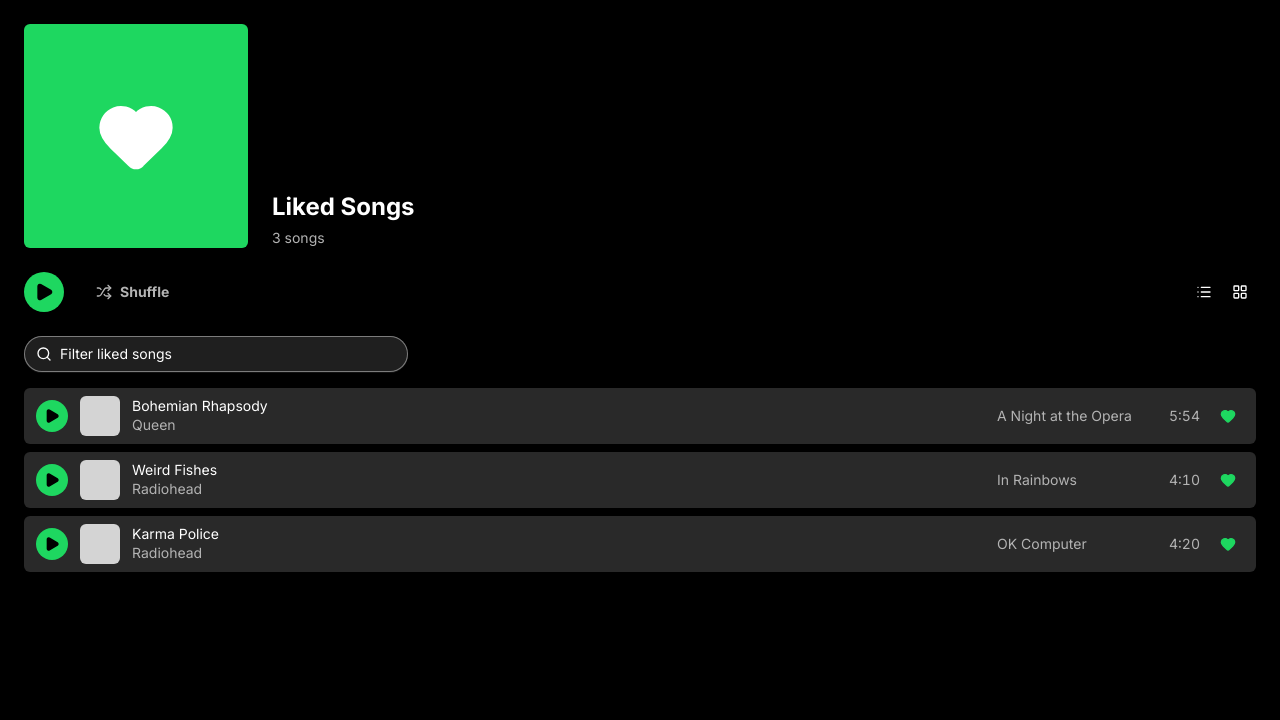
it: Liked Songs surface (task 6.1) › filters by title and artist text, shows a no-matches line, restores on clear
expect the button with aria-label "Play Bohemian Rhapsody" is shown: met, box [36,396,1200,436]
Type "queen" into the search field labelled "Filter liked songs" at (228, 354), box [60,345,396,363]
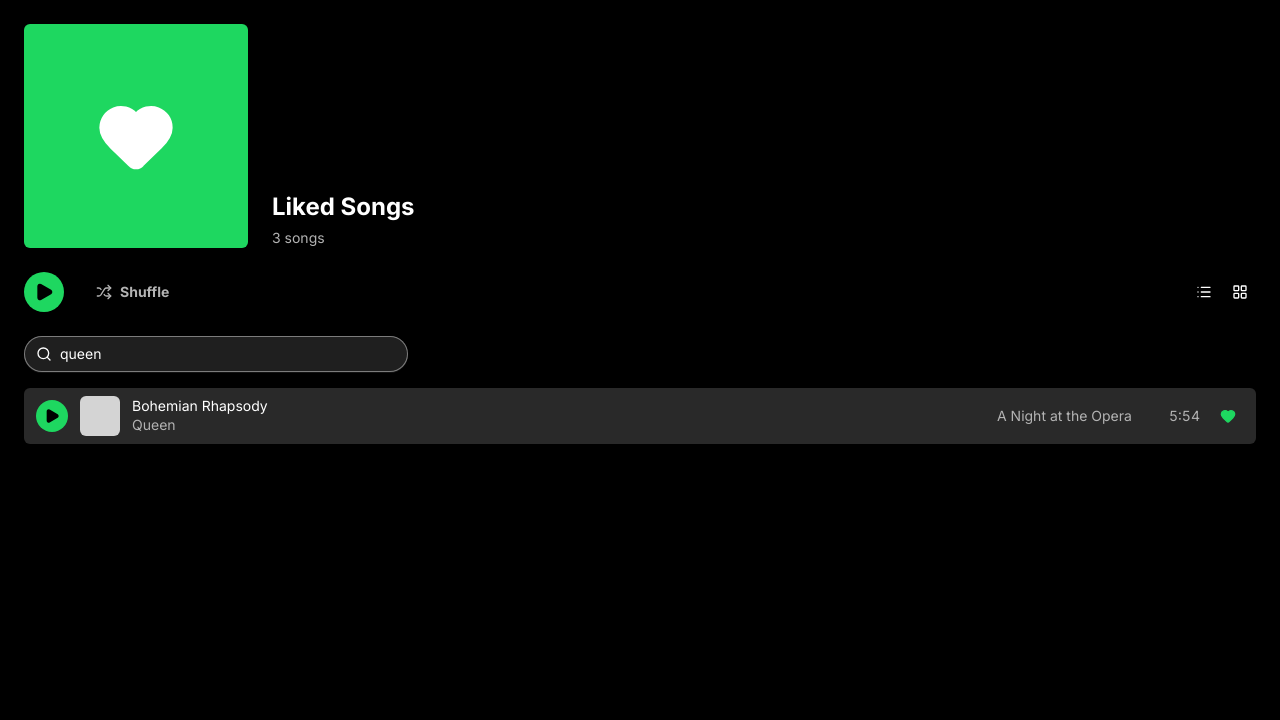
expect the button with aria-label "Play Bohemian Rhapsody" is shown: met, box [36,396,1200,436]
Replace the text in the search field named "Filter liked songs" with "karma" at (228, 354), box [60,345,396,363]
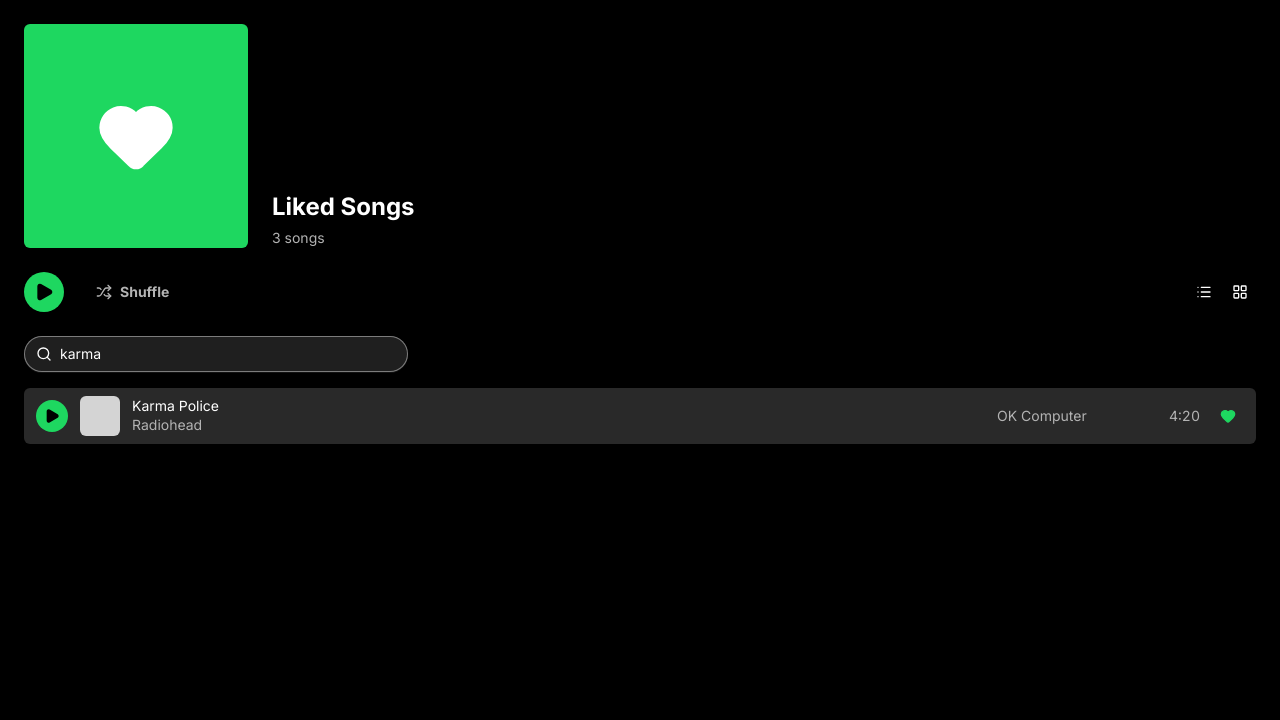
expect the button with aria-label "Play Karma Police" is shown: met, box [36,396,1200,436]
Replace the text in the search field named "Filter liked songs" with "zzz" at (228, 354), box [60,345,396,363]
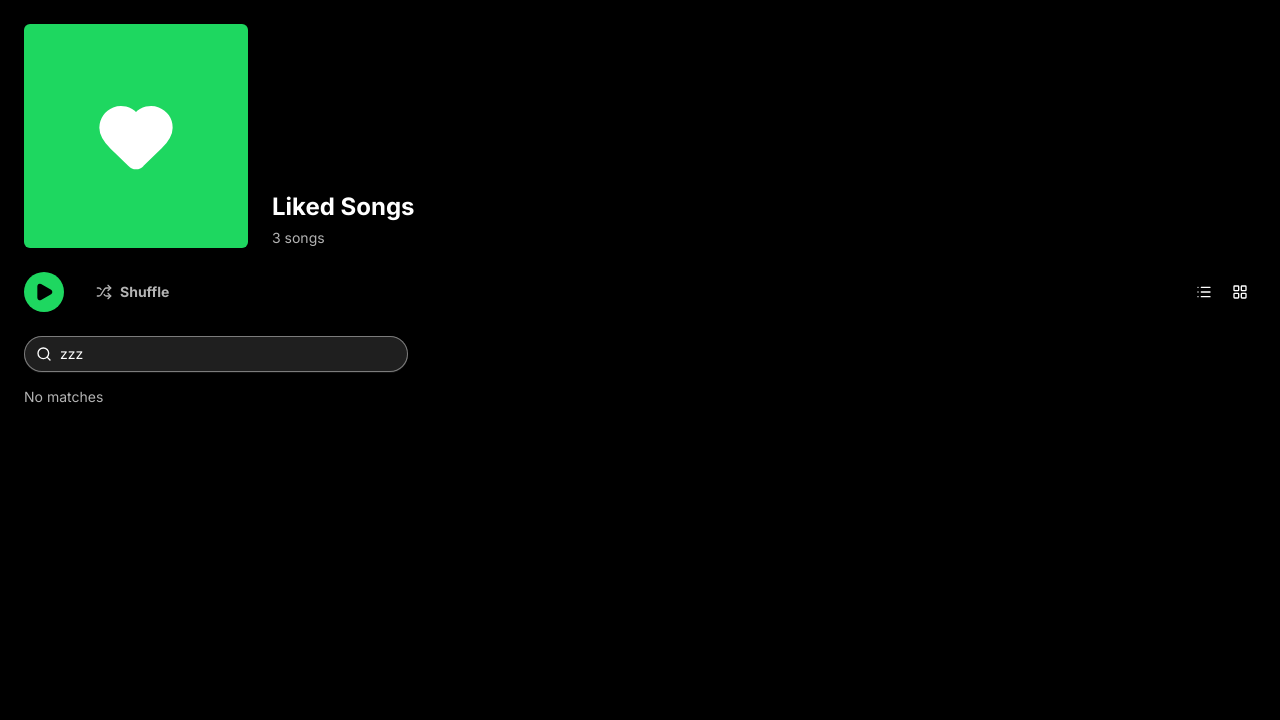
expect the text "No matches" is shown: met, box [24,388,103,405]
Clear the search field named "Filter liked songs" at (228, 354), box [60,345,396,363]
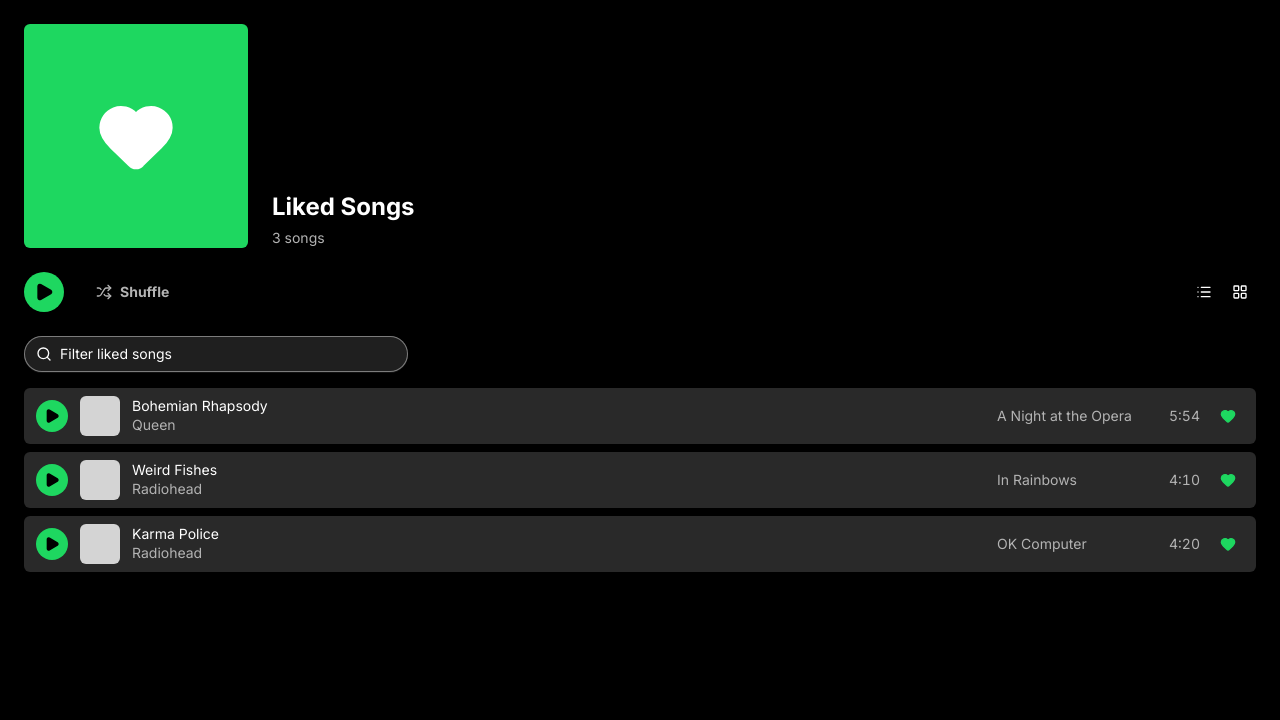
expect the button with aria-label "Play Karma Police" is shown: met, box [36,524,1200,564]
expect the button with aria-label "Play Weird Fishes" is shown: met, box [36,460,1200,500]
expect the button with aria-label "Play Bohemian Rhapsody" is shown: met, box [36,396,1200,436]
